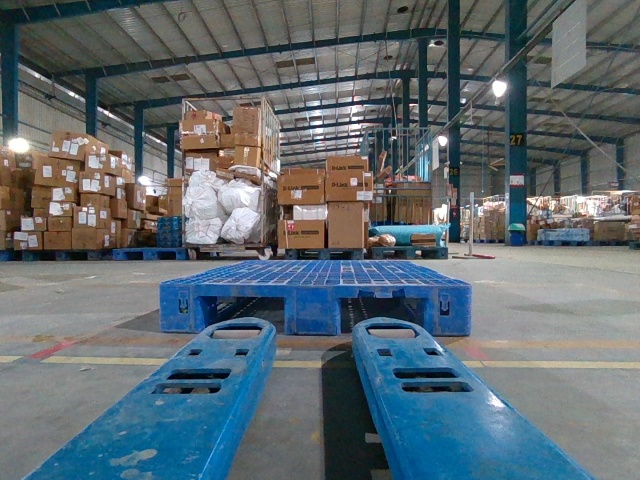block: (284, 286, 346, 338), (159, 282, 209, 331), (426, 286, 474, 337)
front: (156, 281, 473, 338)
hole pallet: (202, 297, 286, 337), (336, 298, 424, 332)
